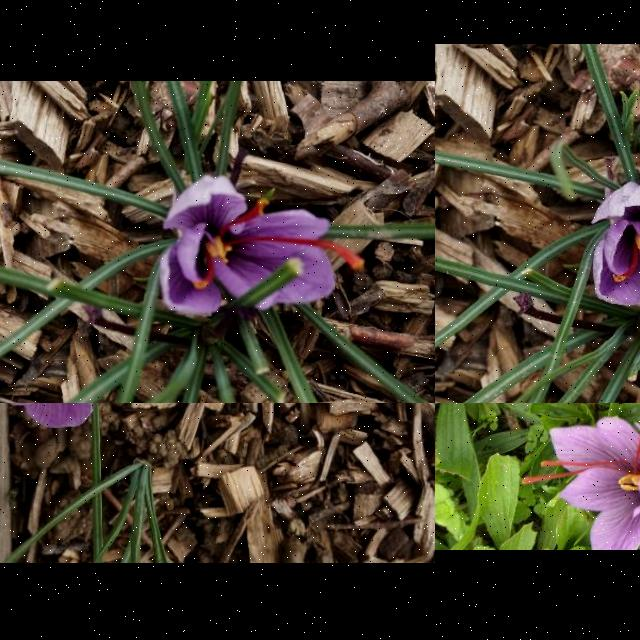flower: (160, 175, 366, 317), (521, 417, 640, 550), (592, 181, 640, 308)
